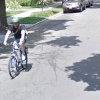bicycles: (4, 41, 28, 78)
